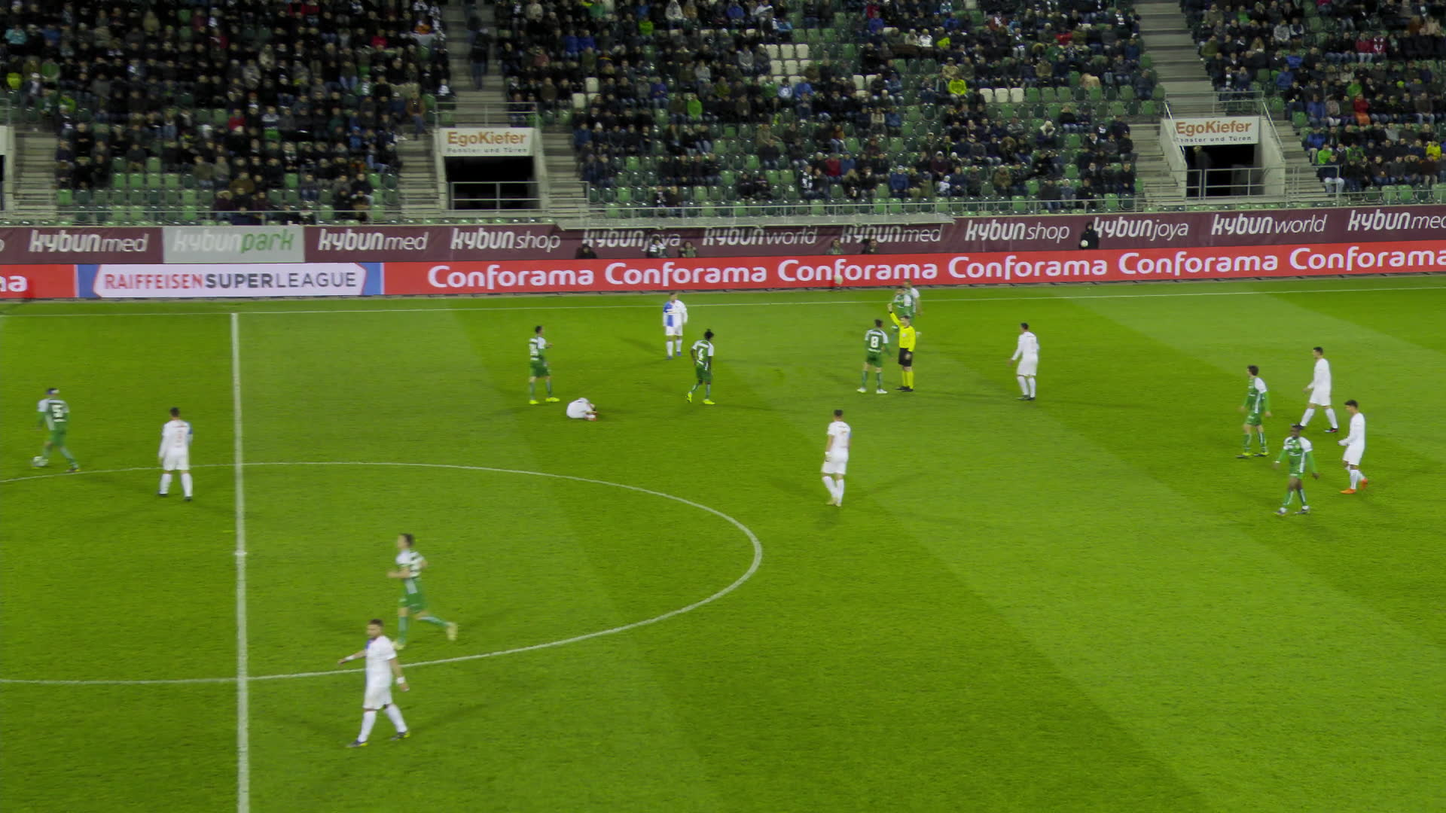ball: (35, 455, 45, 464)
player: (349, 617, 419, 751), (389, 532, 453, 651), (817, 410, 863, 510), (34, 385, 81, 473), (1278, 423, 1318, 519), (163, 406, 200, 501), (1302, 344, 1341, 434), (1241, 364, 1277, 458), (1338, 398, 1372, 495), (1008, 323, 1045, 401), (862, 317, 897, 394), (530, 323, 563, 404), (685, 326, 715, 406), (897, 281, 932, 343), (666, 290, 693, 360), (889, 285, 914, 350), (569, 397, 601, 422)
referee: (891, 300, 919, 392)
